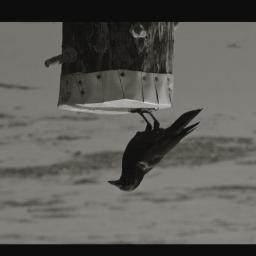Crow: (106, 104, 205, 195)
